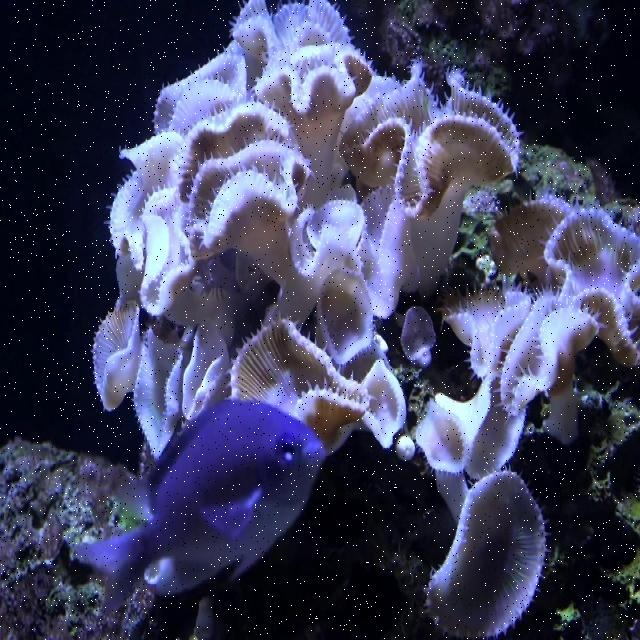aquatic plants: (92, 2, 639, 636)
fish: (72, 397, 327, 621)
sea-floor: (0, 440, 154, 637)
